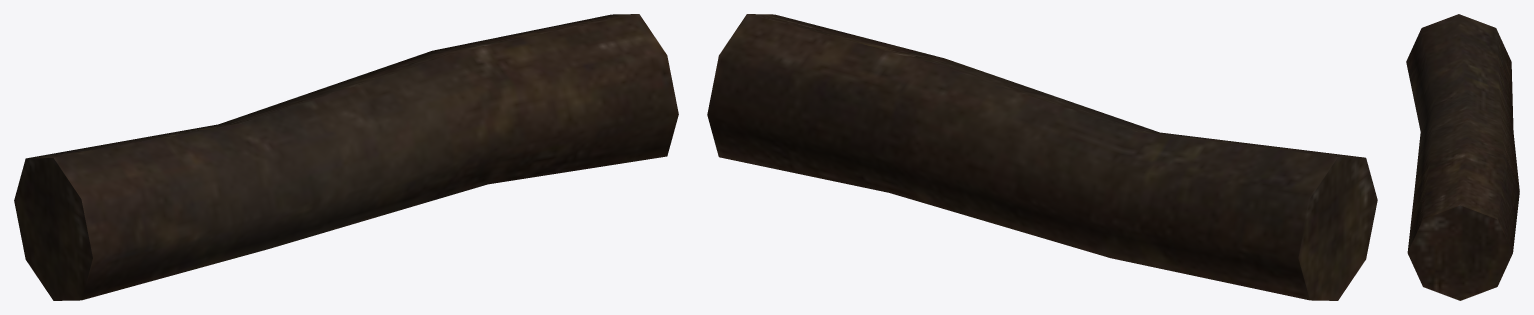
The model's file is WoodRoundLog_01.FBX.
3 renders of one model, left to right at view 1: azimuth 30°, elevation 25°; view 2: azimuth 150°, elevation 25°; view 3: azimuth 270°, elevation 25°, orthographic. The views are drawn at different scales.
Visible parts, largest first — view 1: WoodRoundLog_01; view 2: WoodRoundLog_01; view 3: WoodRoundLog_01.
Part boxes in pixels (left/top/right/bottom): WoodRoundLog_01: left=14, top=14, right=678, bottom=300; WoodRoundLog_01: left=707, top=14, right=1377, bottom=300; WoodRoundLog_01: left=1406, top=14, right=1519, bottom=300.
Bounding box in the file's own units: 85.93 × 20.28 × 21.57.
